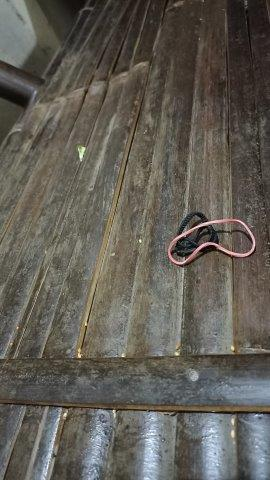karet: (167, 211, 255, 266)
